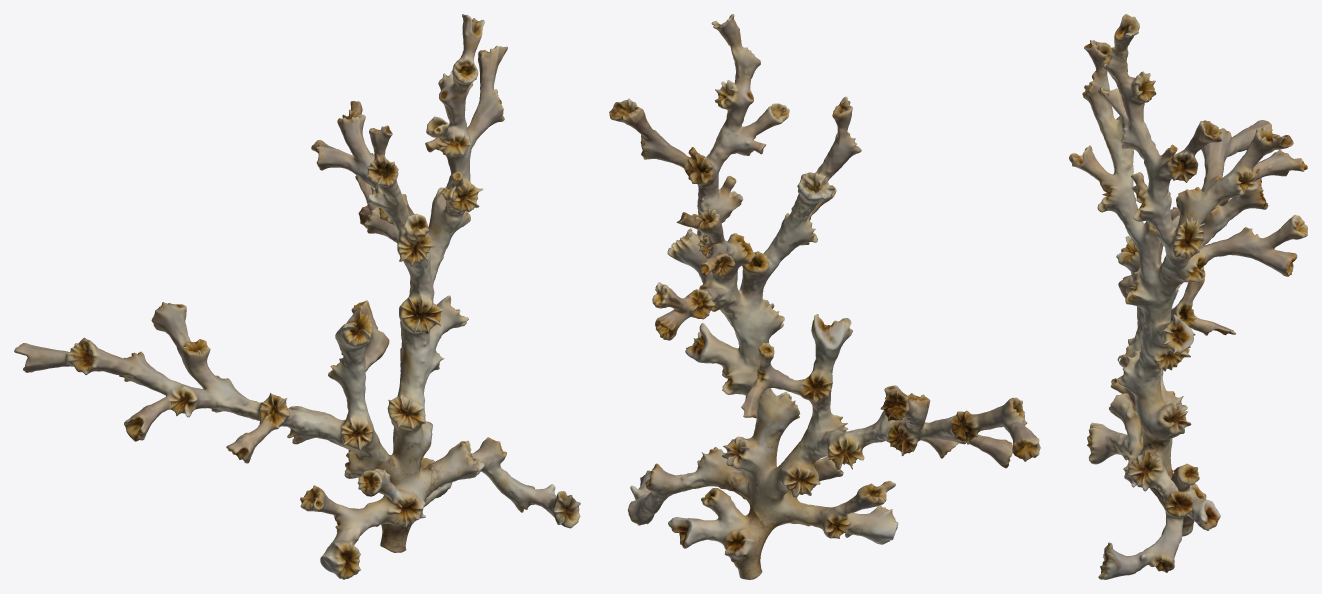
The model's file is cold-water-coral.glb.
3 renders of one model, left to right at view 1: azimuth 30°, elevation 25°; view 2: azimuth 150°, elevation 25°; view 3: azimuth 270°, elevation 25°, orthographic. The views are drawn at different scales.
Parts seen in each view (by area): view 1: cold-water-coral; view 2: cold-water-coral; view 3: cold-water-coral.
Part boxes in pixels (x1,y1,x2,y2): cold-water-coral: (14,14,580,579); cold-water-coral: (609,14,1040,579); cold-water-coral: (1069,14,1307,579).
Bounding box in the file's own units: 1.87 × 2 × 0.8011.
Materials: 1 (1 with a texture image).
